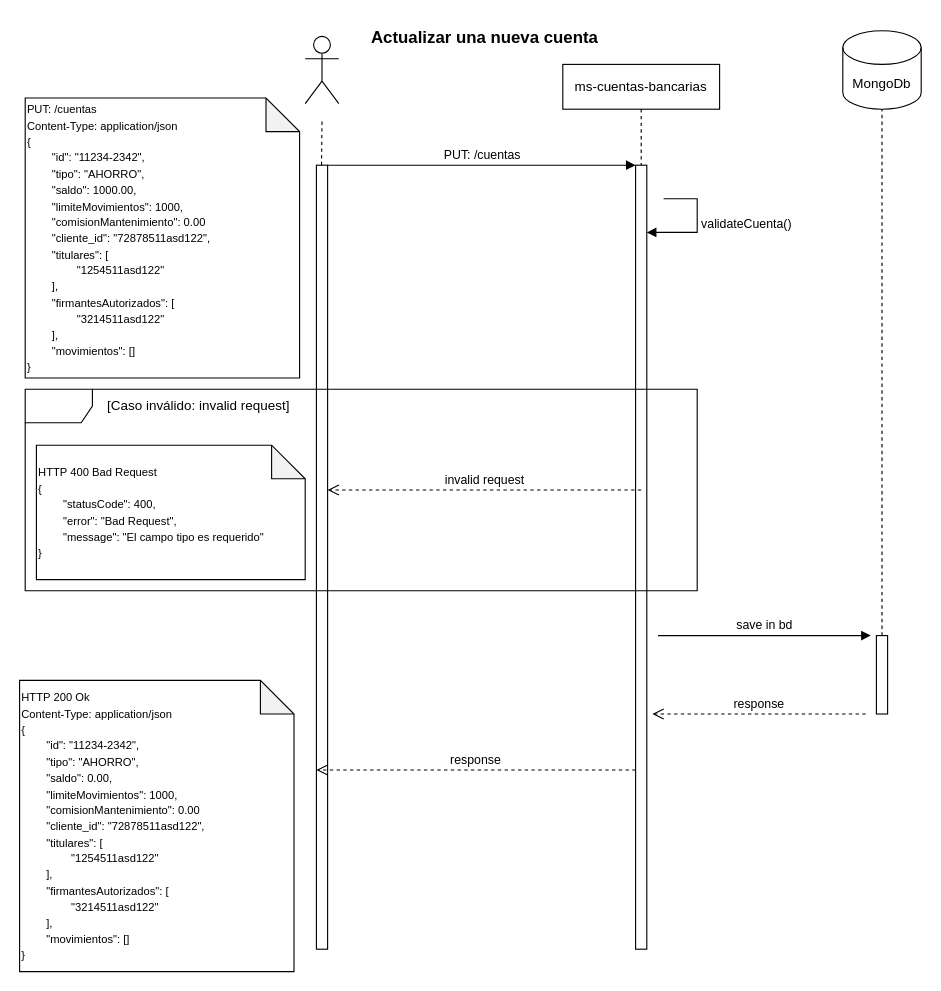
Some shapes in this 941 by 991 pixel diagram are drawn without their labels. Here are the shapes that lost their labels. From the top down, the box of each, then its label:
(304, 35, 339, 104): Cliente
(24, 388, 697, 591): alt
